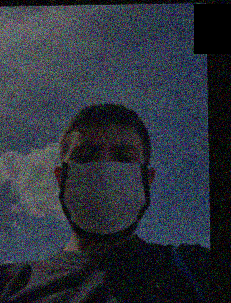with_mask: (58, 137, 150, 242)
